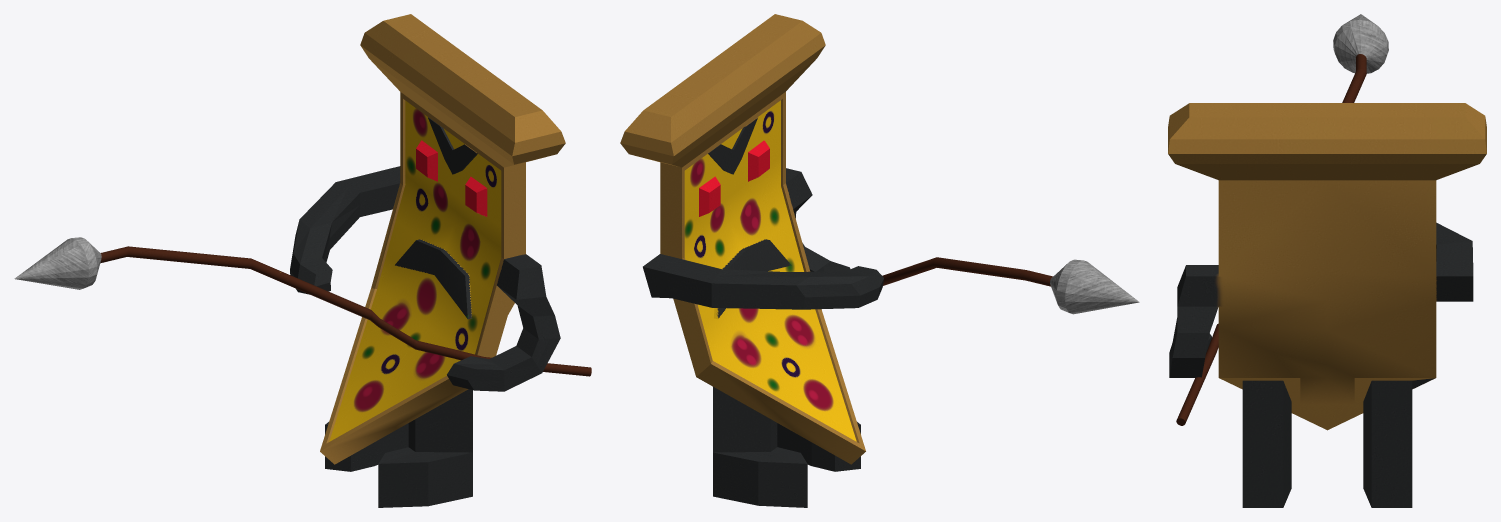
Rendered from PizzaEnemigo.fbx.
The picture shows the model from 3 angles, left to right: view 1: azimuth 30°, elevation 25°; view 2: azimuth 150°, elevation 25°; view 3: azimuth 270°, elevation 25°; orthographic projection. The views are drawn at different scales.
Parts seen in each view (by area): view 1: Cylinder001; view 2: Cylinder001; view 3: Cylinder001.
Part boxes in pixels (x1,y1,x2,y2): Cylinder001: (14,14,591,507); Cylinder001: (620,14,1139,507); Cylinder001: (1168,14,1486,507).
Bounding box in the file's own units: 103 × 79.01 × 55.
Materials: 1 (1 with a texture image).
